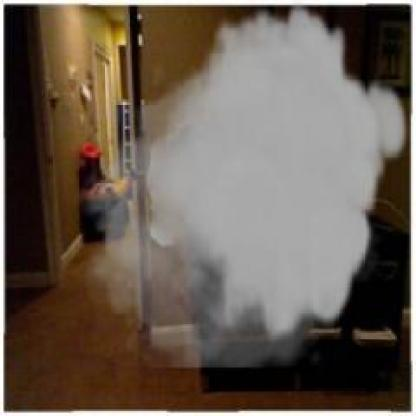Smoke: (74, 0, 410, 367)
